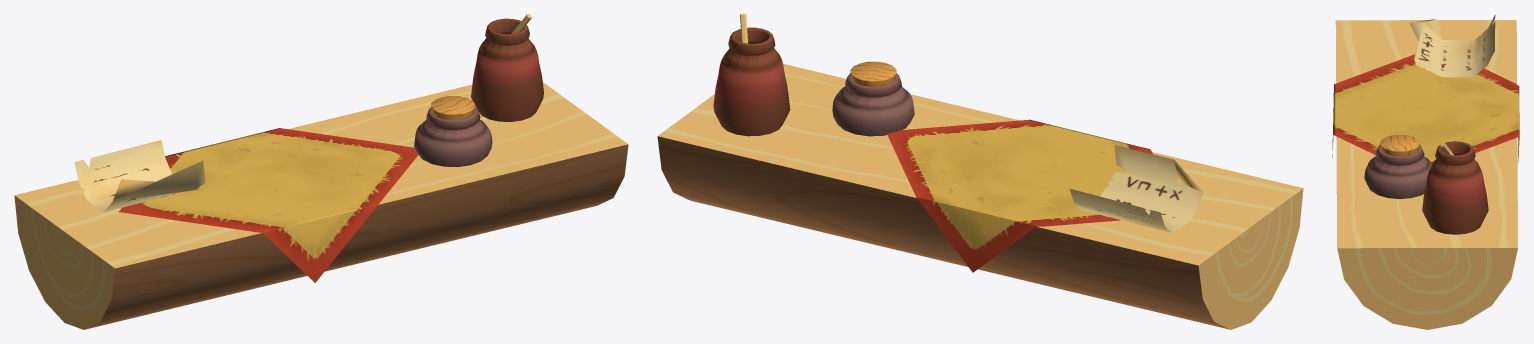
The model's file is Workbench.fbx.
3 renders of one model, left to right at view 1: azimuth 30°, elevation 25°; view 2: azimuth 150°, elevation 25°; view 3: azimuth 270°, elevation 25°, orthographic. The views are drawn at different scales.
Visible parts, largest first — view 1: Workbench2; view 2: Workbench2; view 3: Workbench2.
Part boxes in pixels (box(x1,y1,x2,y2)): Workbench2: box(14, 14, 628, 329); Workbench2: box(657, 14, 1303, 329); Workbench2: box(1332, 14, 1519, 329).
Bounding box in the file's own units: 213 × 74.03 × 74.34.
1 material, 1 textured.
